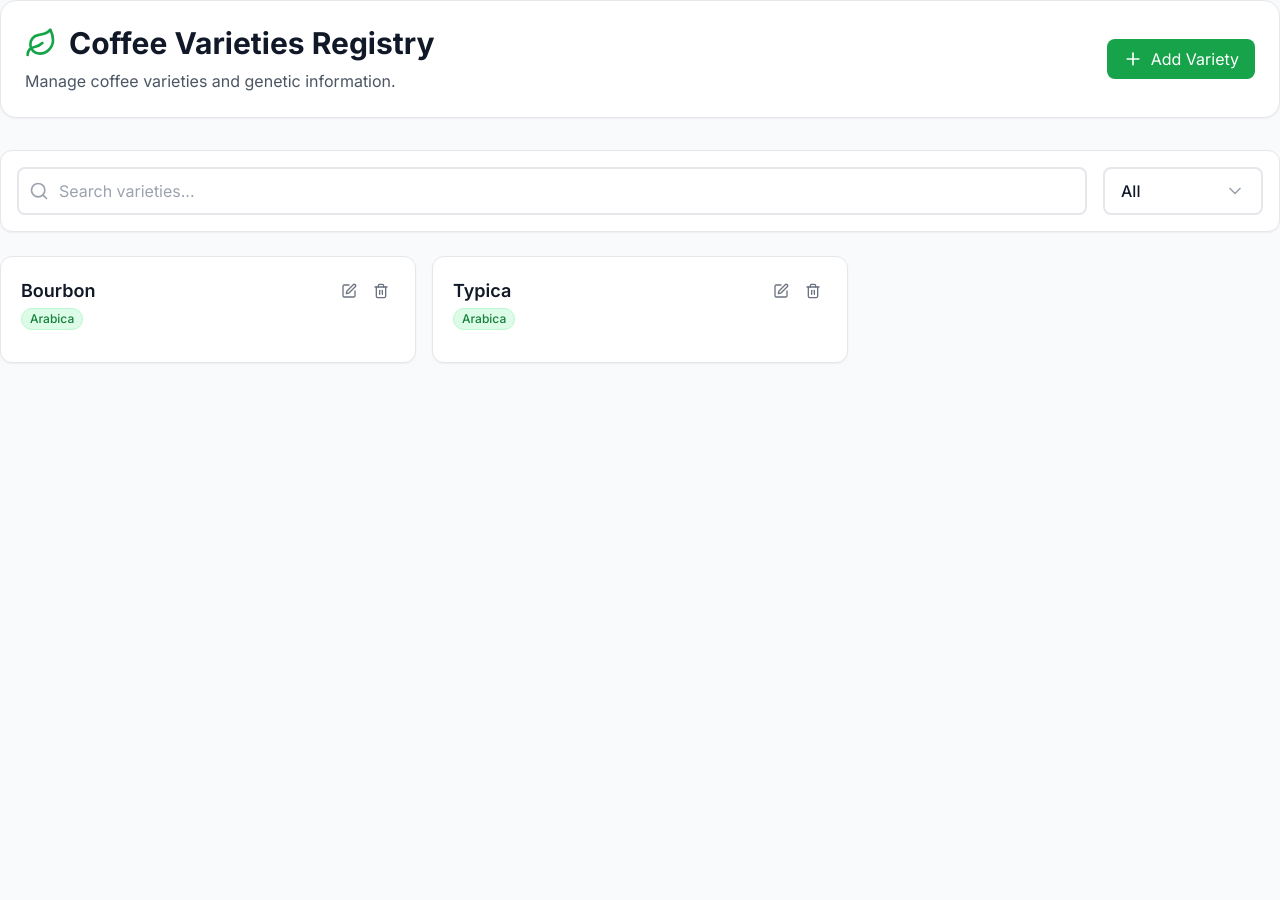
Test case: Coffee Varieties duplicate names › blocks renaming another variety to an existing name in a different case
This screenshot has width=1280, height=900.
Expected: the heading "Typica" is shown, [453,277,515,305]
Click the button named "Edit Typica": [781, 291] box [767,277,795,305]
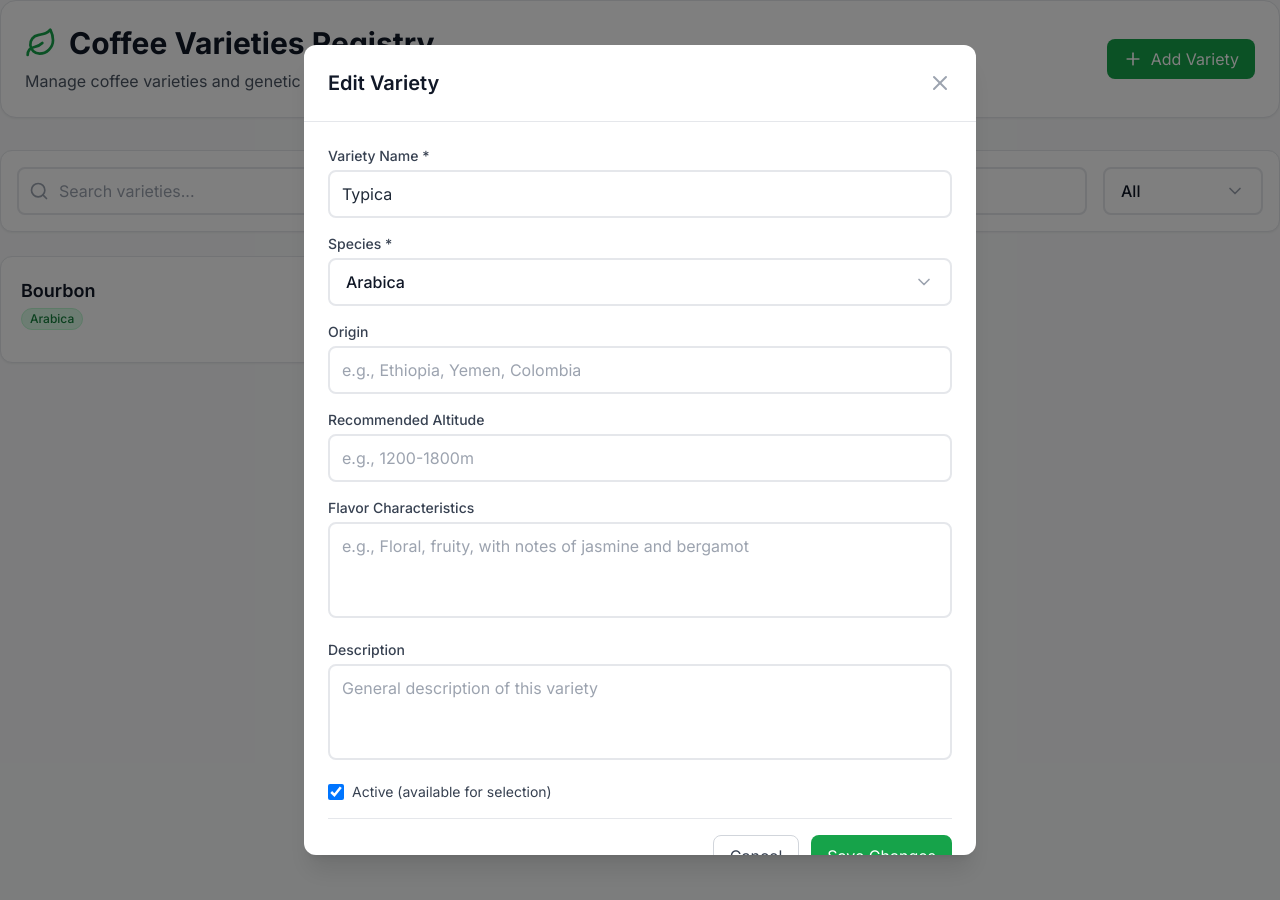
Replace the text in the field with placeholder "e.g., Typica, Bourbon, Gesha" with "BOURBON": [640, 194] box [328,170,952,218]
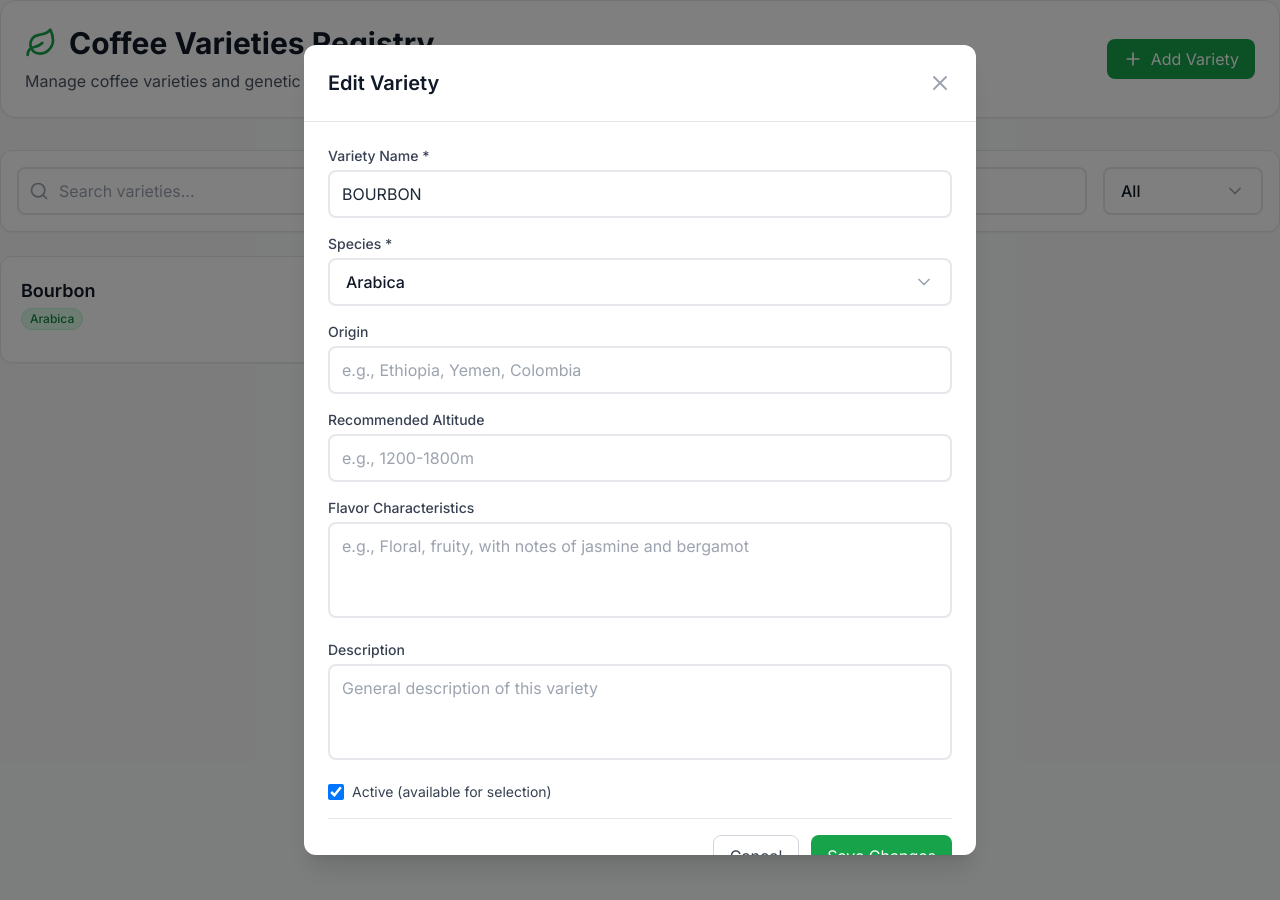
Submit the form with placeholder "e.g., Typica, Bourbon, Gesha", box [304,122,976,899]
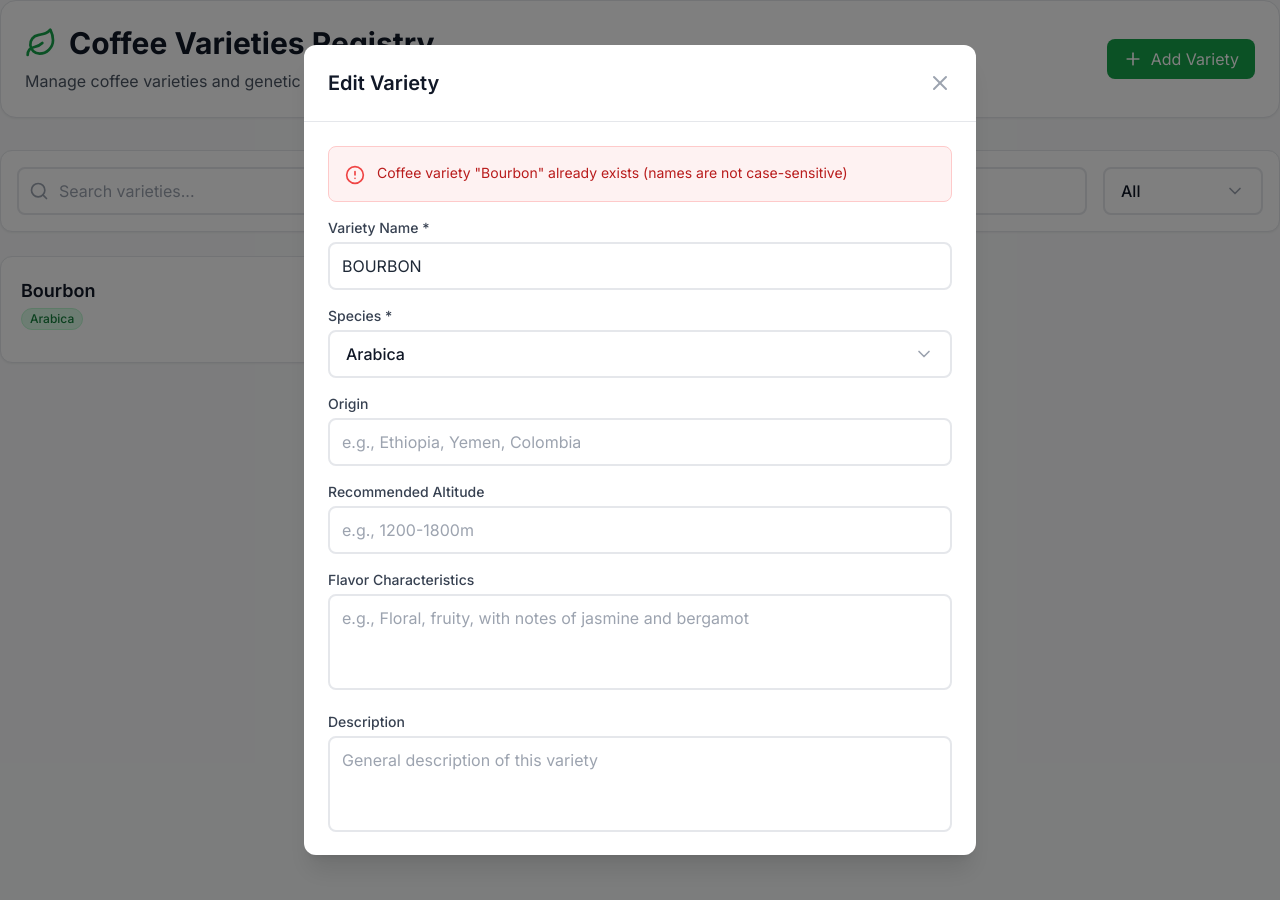
Now the text "Coffee variety \"Bourbon\" already exists" is shown, box [377,164,848,181]
